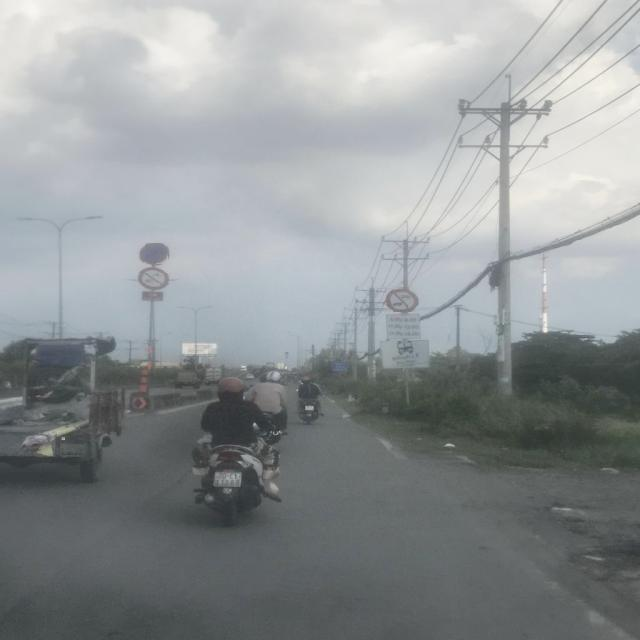cam_dung_xe_va_do_xe: (139, 243, 169, 266)
cam_o_to_tai_va_xe_khach: (386, 287, 419, 312)
cam_xe_2_banh_va_xe_3_banh_co_dong_co: (138, 267, 170, 290)
khac: (380, 341, 429, 368), (386, 314, 421, 338)
